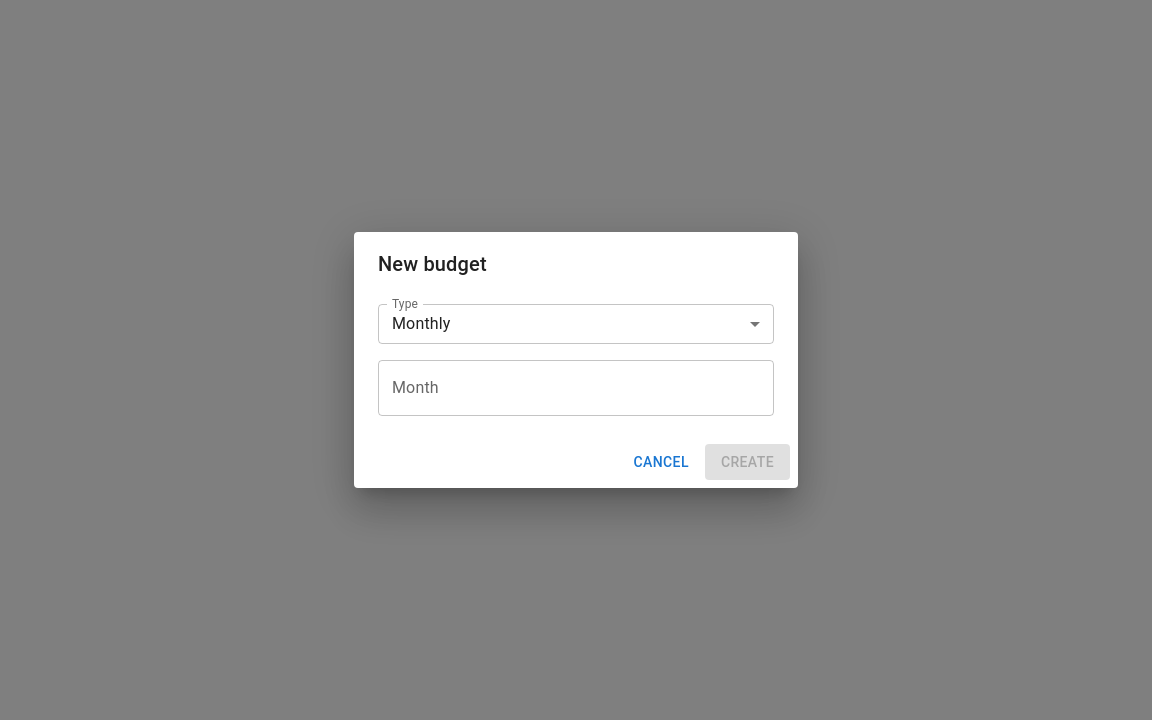
Test: CreateBudgetDialog rendering › shows manual From/To pickers and no name field for Period
The width and height of the screenshot is (1152, 720).
Press the mouse on the dropdown named "type": x=421, y=324 392,314 -> 450,333
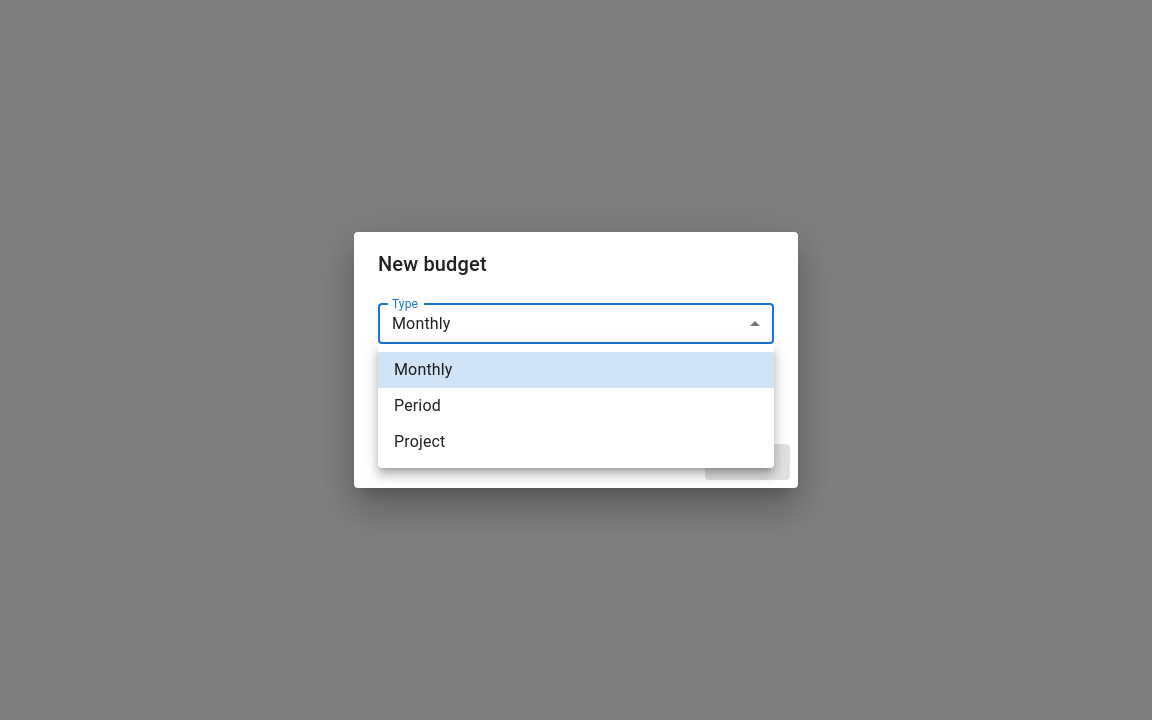
Click the option "Period": x=417, y=406 394,396 -> 441,415
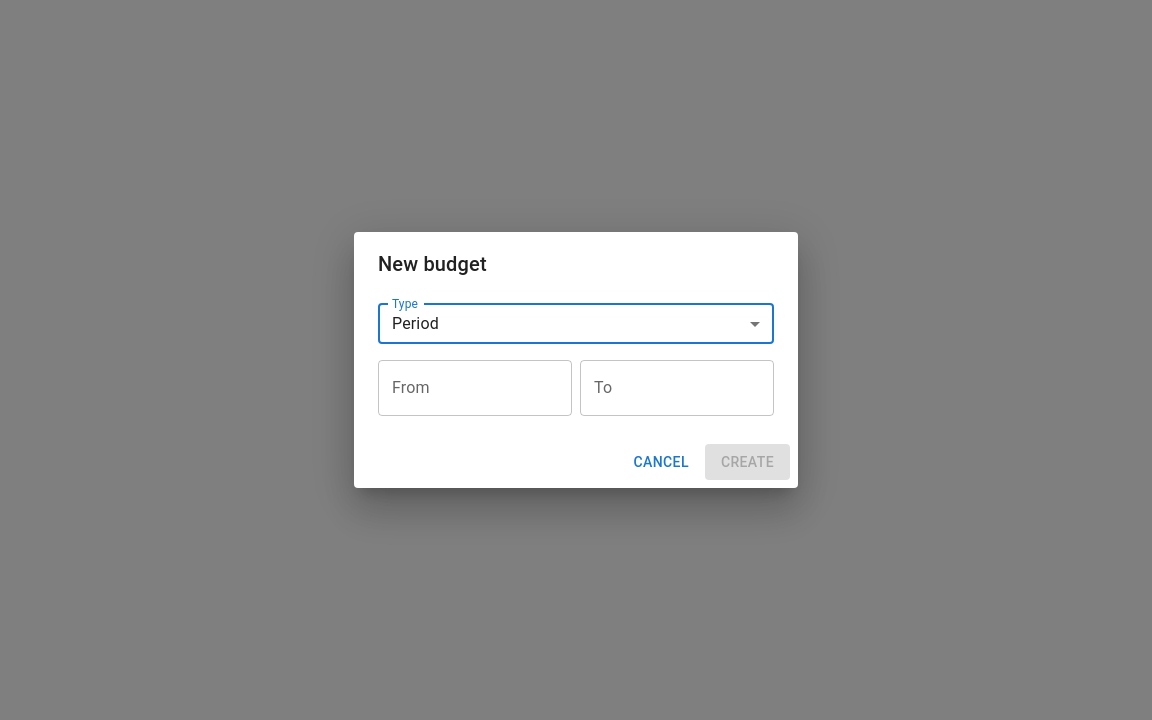
Now the field labelled "From" is shown, box 378,360 -> 558,416
Now the field labelled "To" is shown, box 580,360 -> 760,416
